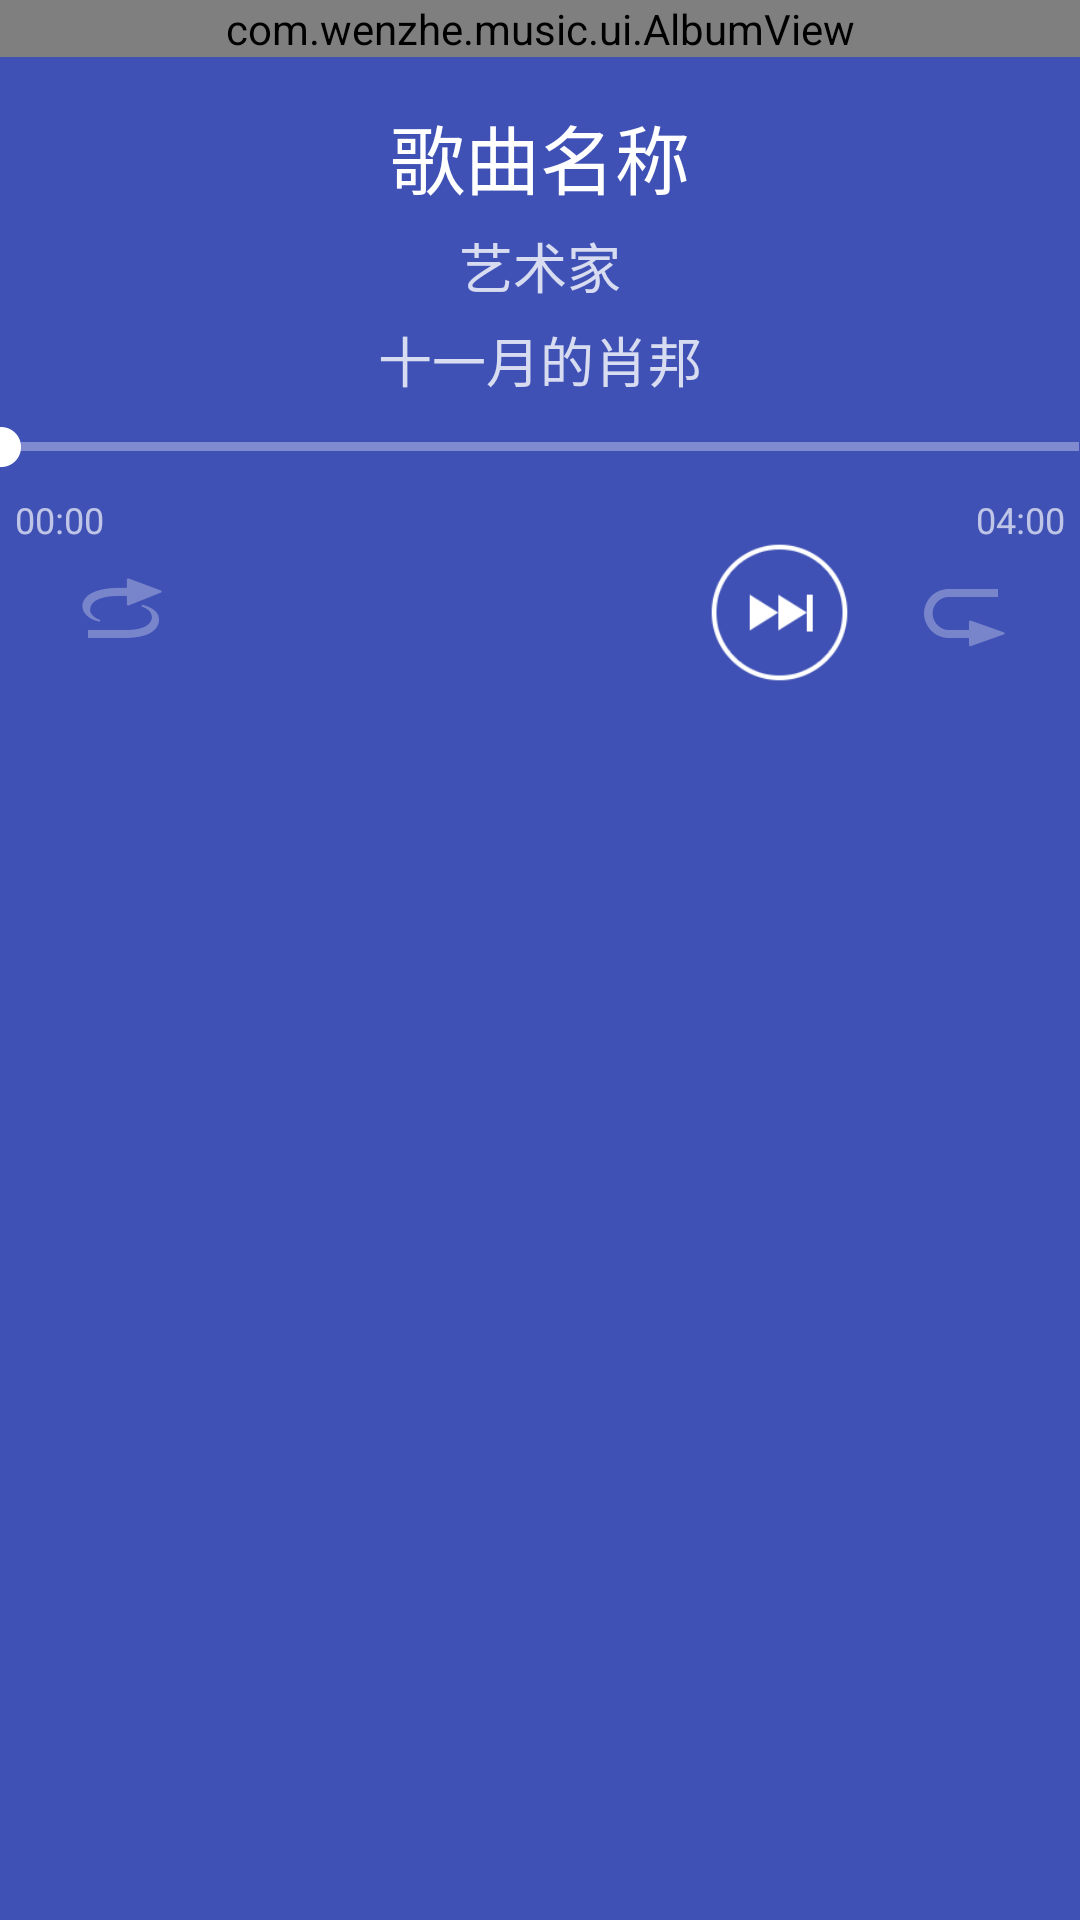

Locate icon controls on the screen. Image size 1080 × 1920, boxes as BBox(x1, y1, x2, y2).
widget next: BBox(711, 544, 848, 681)
